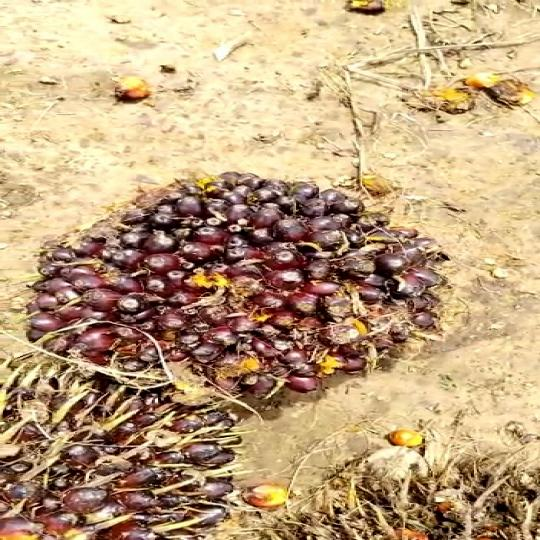kurang masak: (16, 163, 488, 393), (0, 374, 289, 540)
